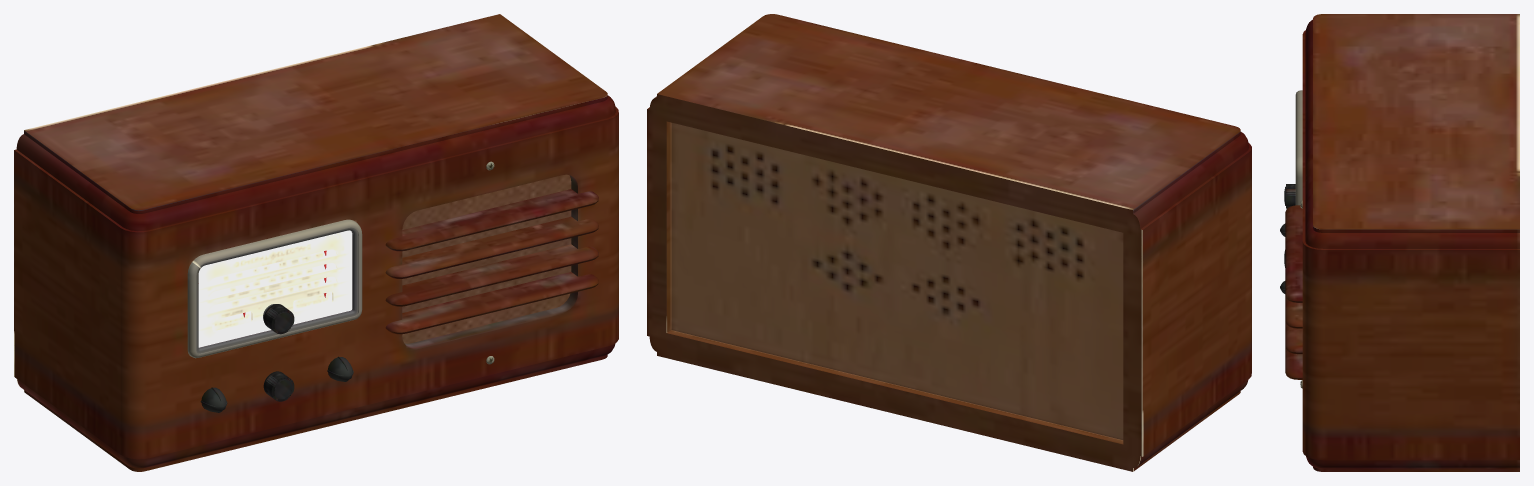
Rendered from d_radio_1937.glb.
3 views of the same model, side by side, from view 1: azimuth 30°, elevation 25°; view 2: azimuth 150°, elevation 25°; view 3: azimuth 270°, elevation 25° (orthographic). The views are drawn at different scales.
Parts seen in each view (by area): view 1: #RAD0002_1937_General_Electric_F-70_#RAD0002_Glass_0; view 2: #RAD0002_1937_General_Electric_F-70_#RAD0002_Glass_0; view 3: #RAD0002_1937_General_Electric_F-70_#RAD0002_Glass_0.
Boxes of the visible parts, <box> form: #RAD0002_1937_General_Electric_F-70_#RAD0002_Glass_0: <box>14,14,618,471</box>; #RAD0002_1937_General_Electric_F-70_#RAD0002_Glass_0: <box>647,14,1251,471</box>; #RAD0002_1937_General_Electric_F-70_#RAD0002_Glass_0: <box>1280,14,1519,471</box>.
Bounding box in the file's own units: 0.6934 × 0.35 × 0.3136.
2 materials, 1 textured.
